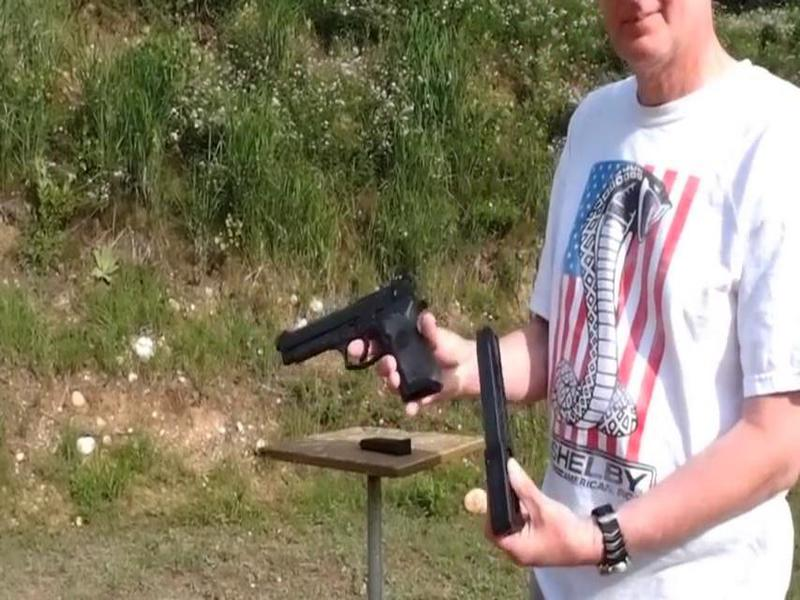Pistola: (274, 277, 449, 413)
